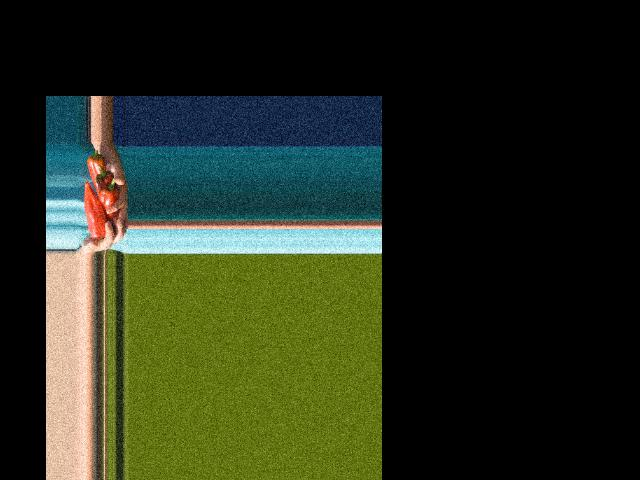bell_pepper: (87, 149, 107, 186)
